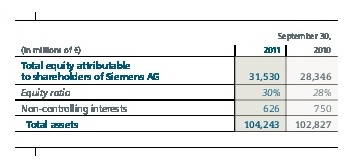table: (0, 0, 357, 166)
